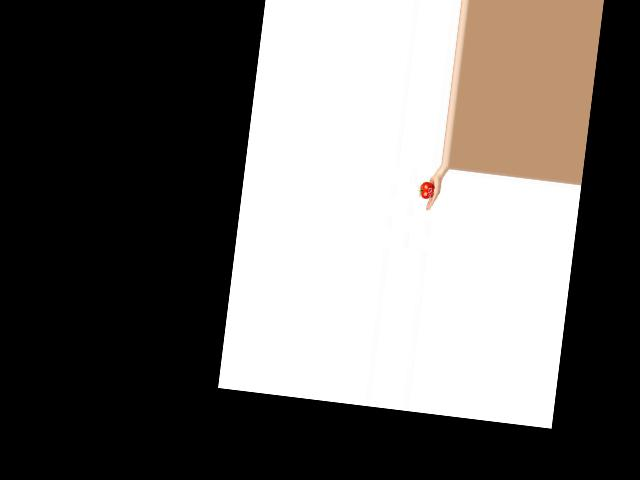tomato: (419, 181, 435, 199)
